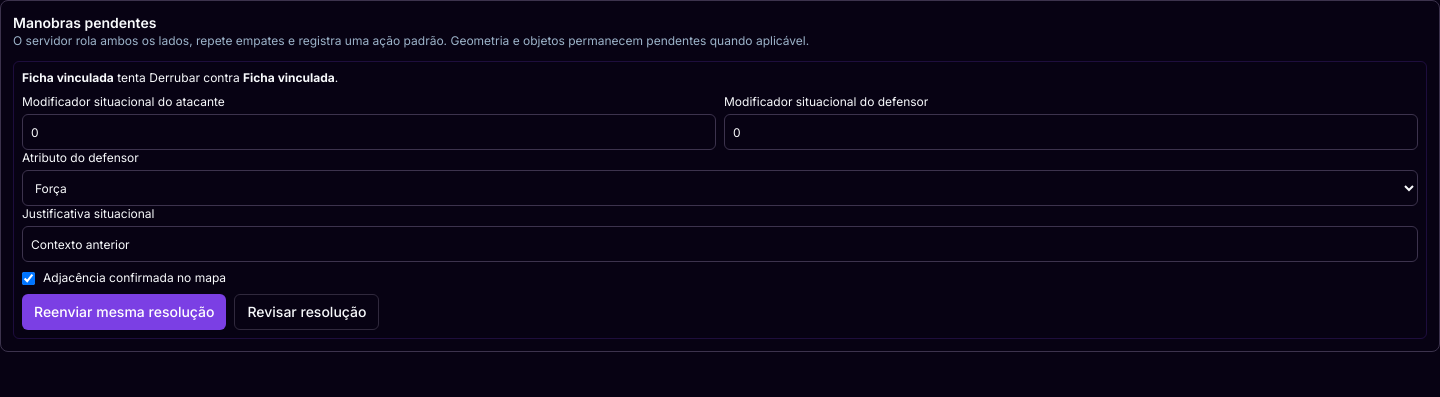
Test: controles compartilhados de manobra › permite revisar e descartar o outbox determinístico antes de criar nova resolução
The width and height of the screenshot is (1440, 397).
Click the button "Revisar resolução": (307, 312) x1=234 y1=294 x2=380 y2=330
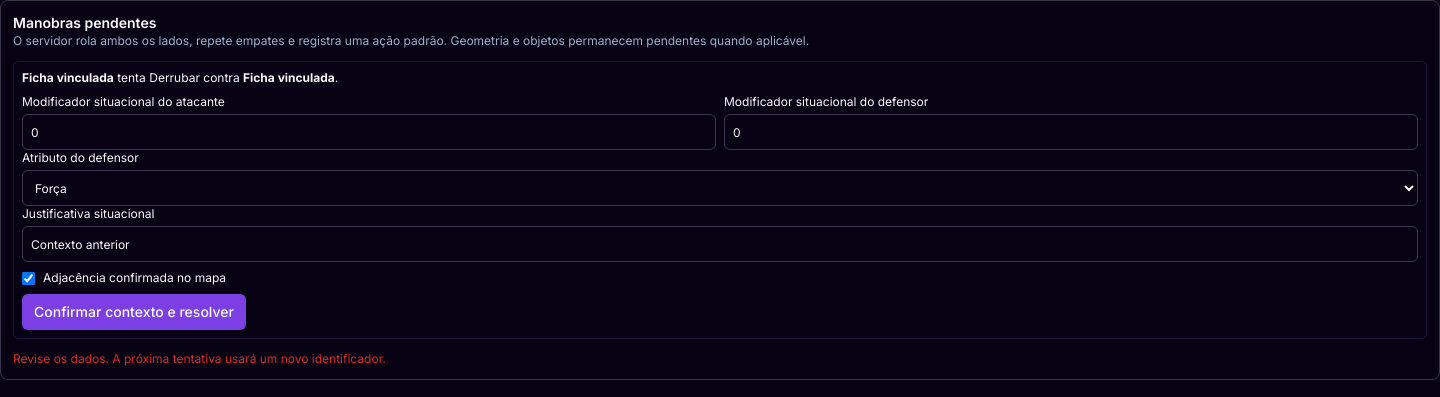
Expected: the button "Revisar resolução" is gone
